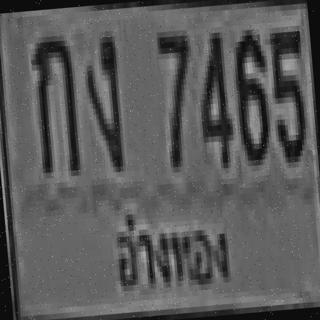A01: (28, 30, 78, 173)
A07: (81, 25, 123, 168)
N04: (191, 27, 233, 164)
N05: (266, 25, 310, 158)
N06: (229, 23, 270, 161)
N07: (154, 25, 196, 168)
P02: (103, 196, 237, 303)
